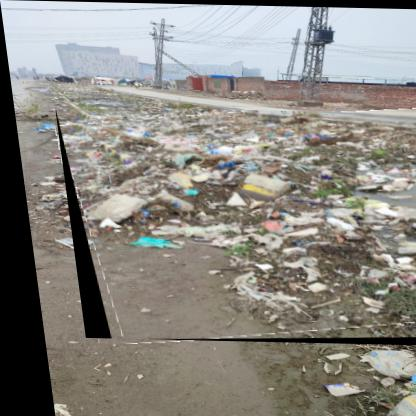Garbage: (53, 106, 416, 347)
